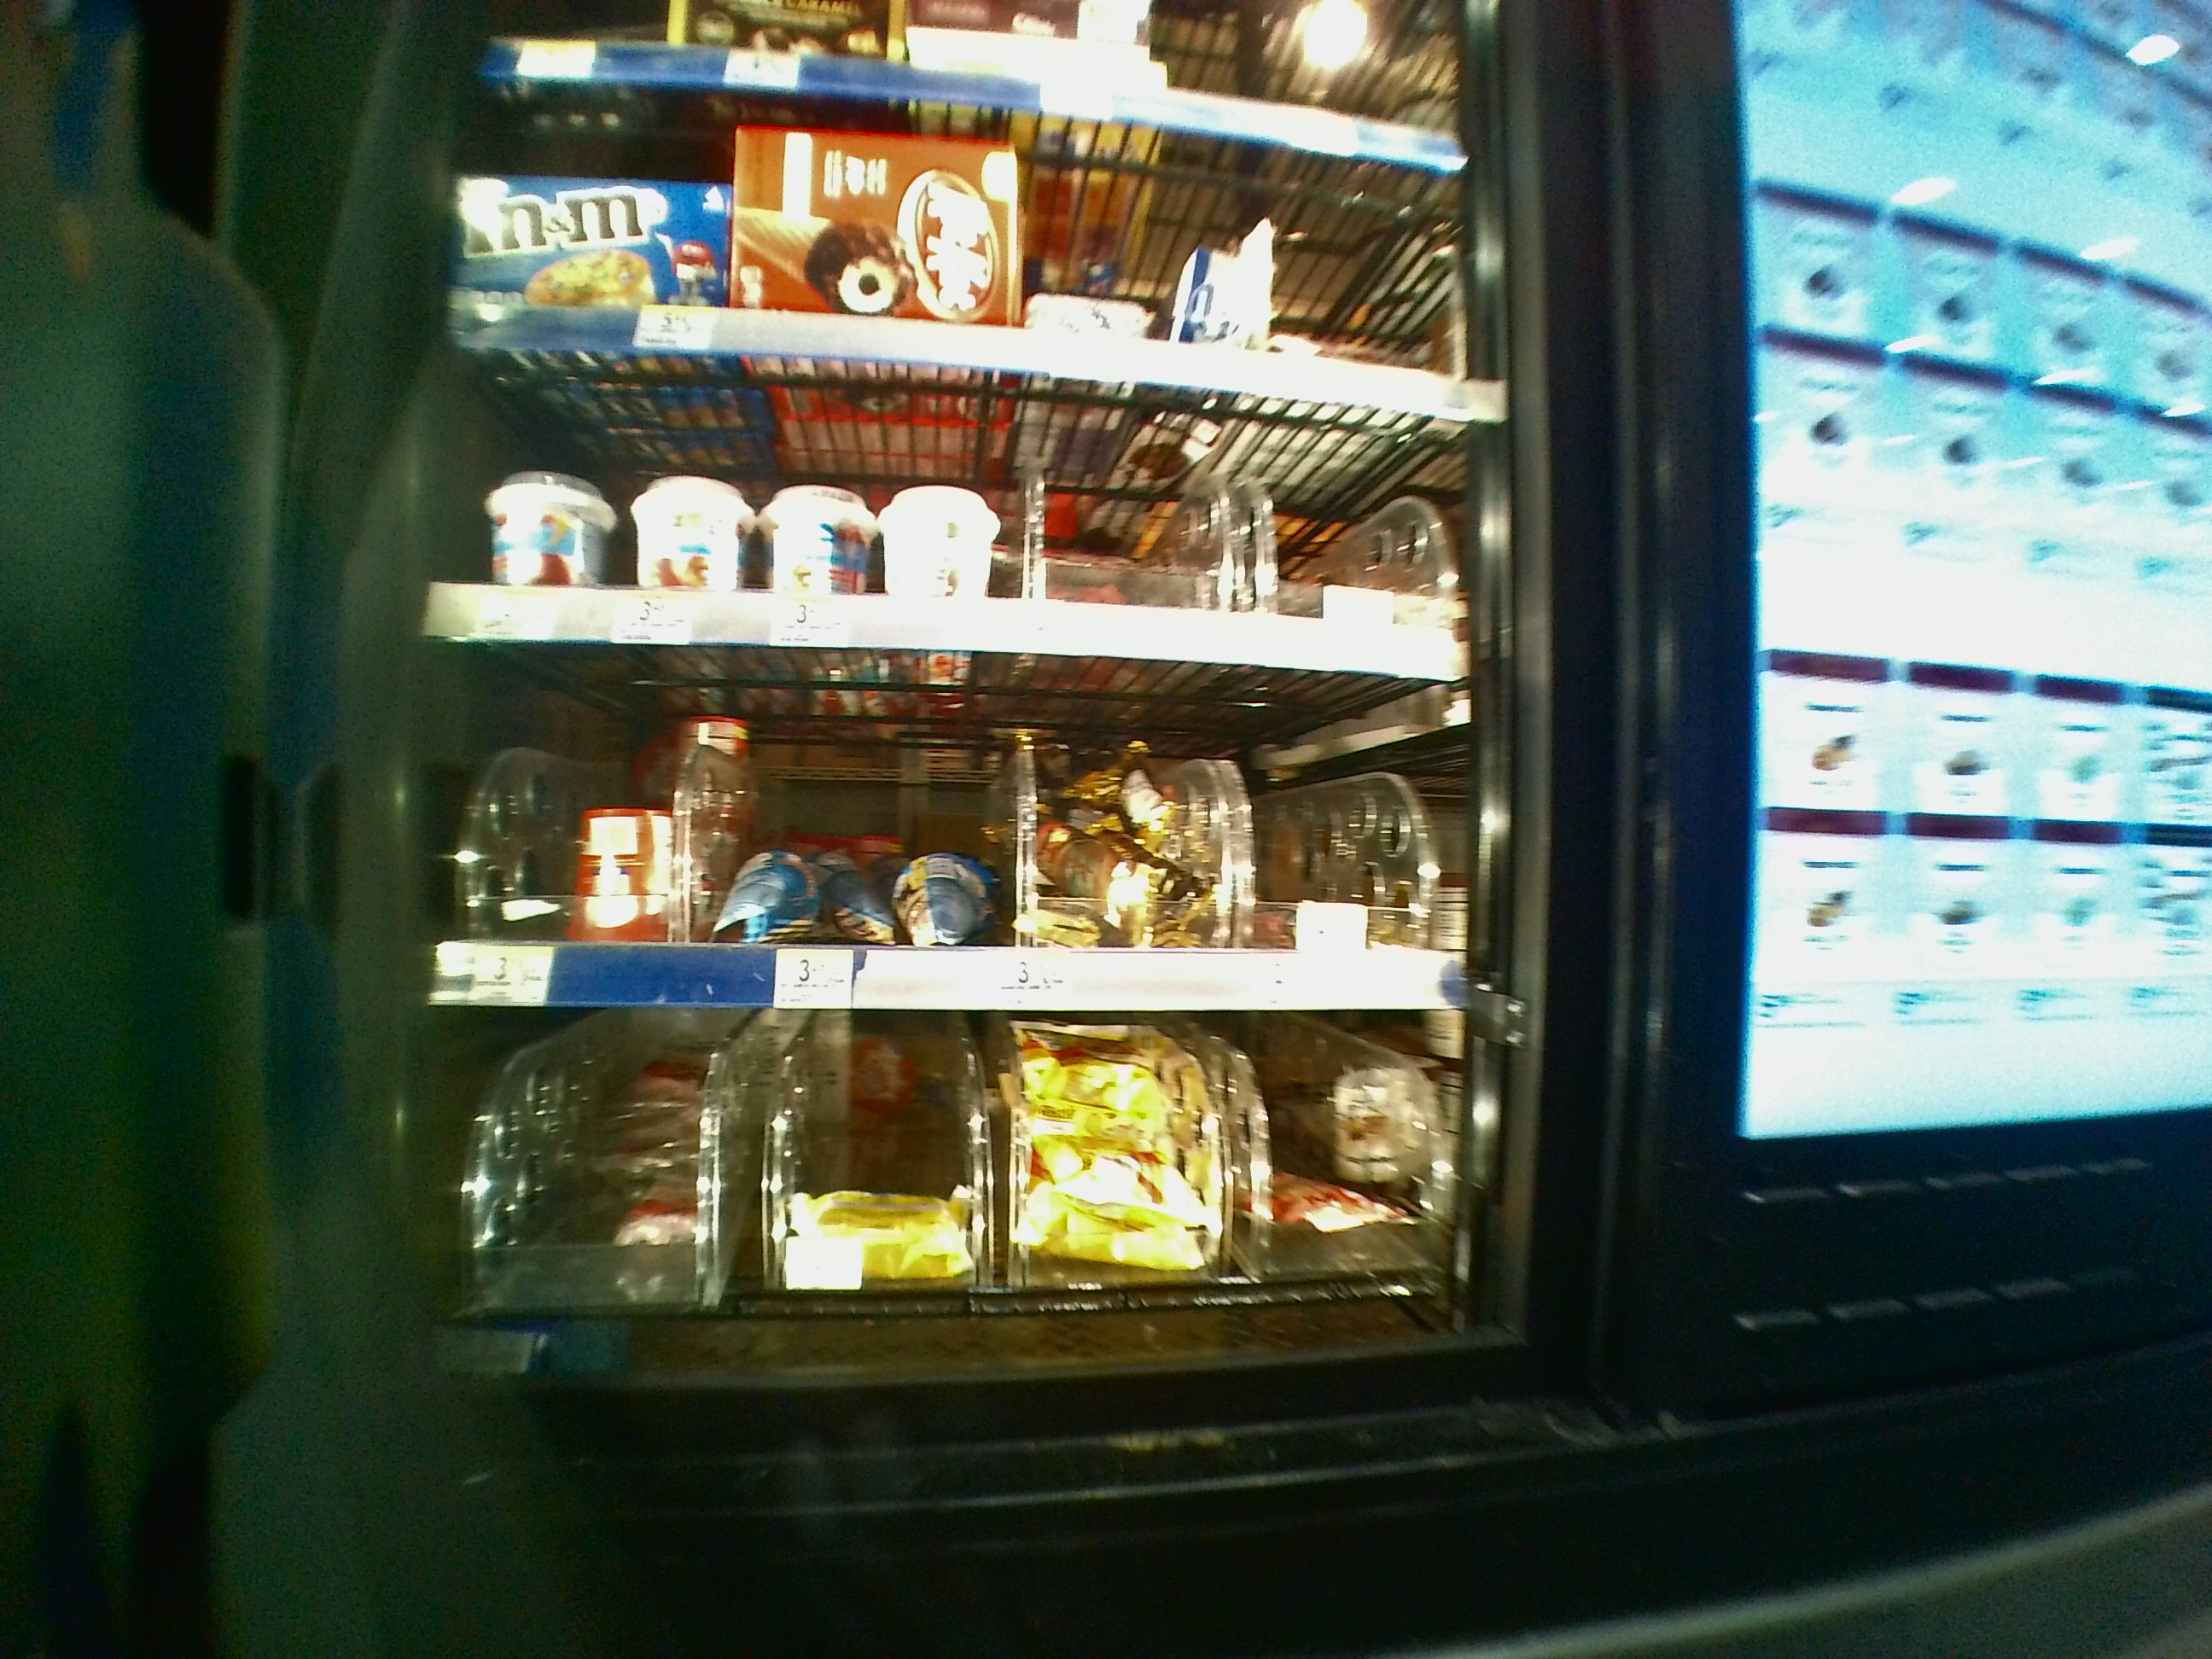shelf: (425, 1018, 1484, 1401), (421, 664, 1484, 1002), (432, 342, 1480, 647)
